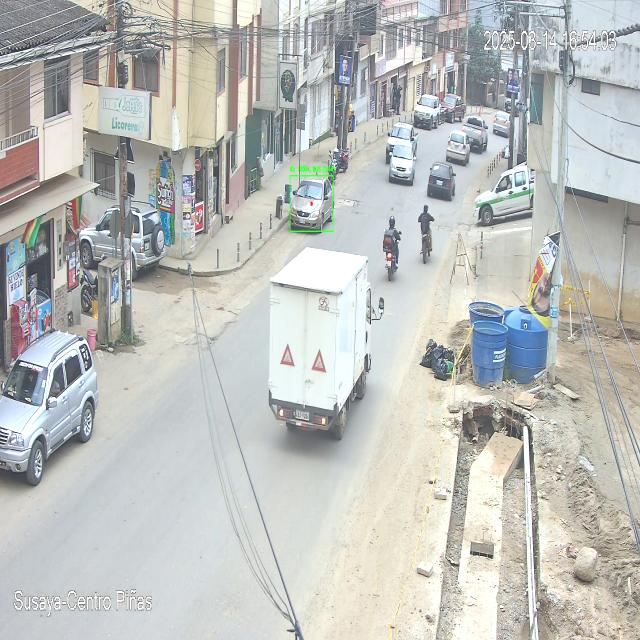MOTORCYCLE: (382, 227, 400, 281), (420, 226, 432, 263)
TRUCK: (267, 249, 371, 439)
